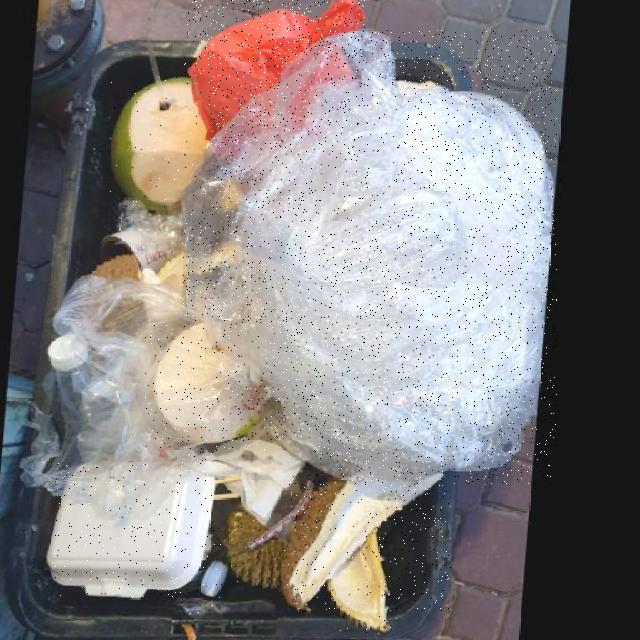biowaste: (290, 474, 451, 612), (146, 324, 274, 451), (110, 77, 209, 212), (337, 533, 399, 634), (237, 508, 295, 591)
paper: (213, 439, 313, 527)
plastic: (184, 31, 557, 485), (187, 0, 365, 142), (55, 463, 223, 599)
